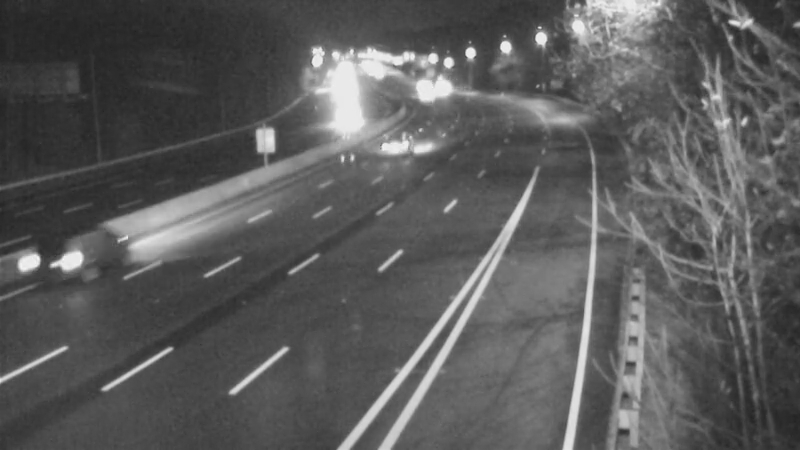vehicle: (12, 218, 92, 298), (376, 119, 426, 169), (327, 92, 377, 142)
